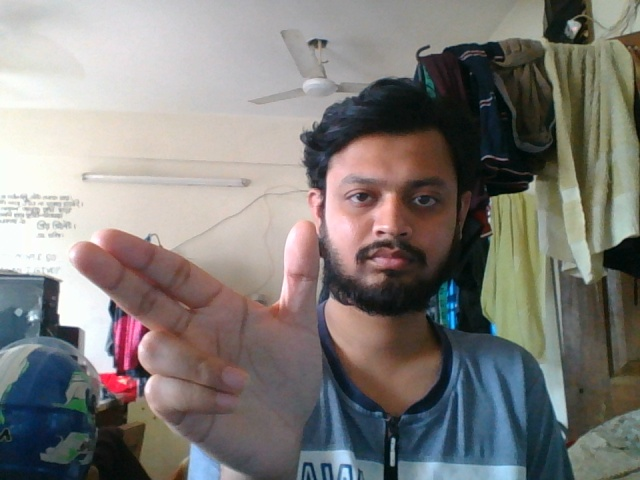jha: (56, 214, 330, 463)
